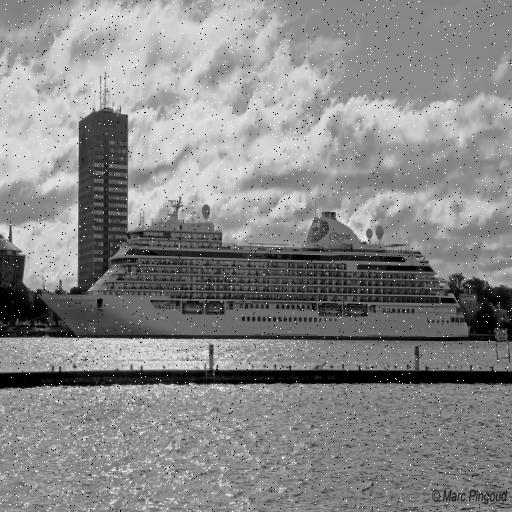cruises: (38, 194, 473, 348)
